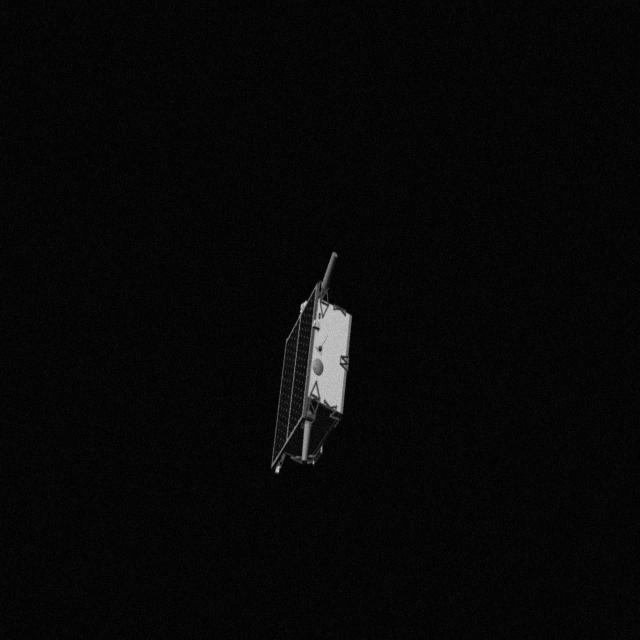satellite: (270, 242, 368, 488)
